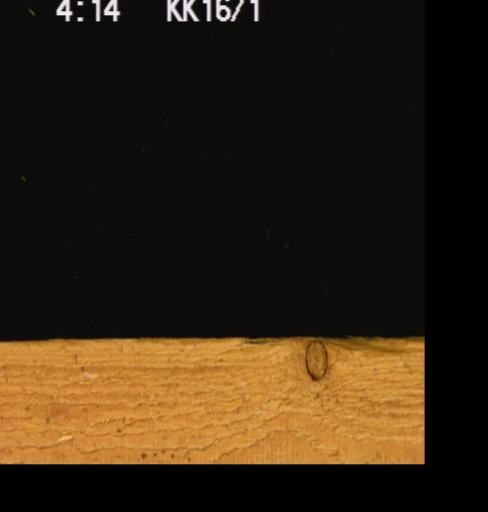dry_knot: (302, 339, 327, 380)
wave: (241, 334, 423, 346)
